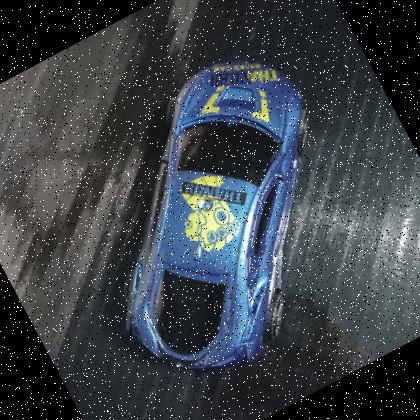Car: (123, 55, 310, 376)
